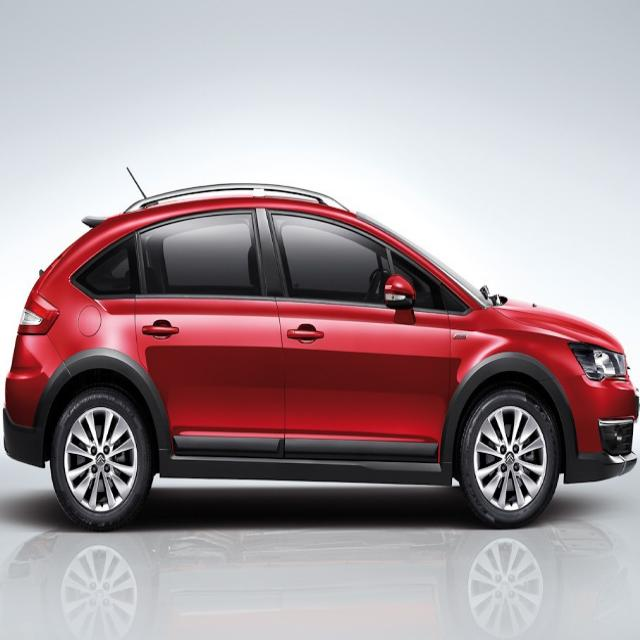back_right_side_light: (18, 290, 60, 336)
door: (138, 204, 269, 472)
front_right_side_door: (265, 205, 455, 474)
front_right_side_light: (567, 339, 628, 384)
front_right_side_mirror: (383, 274, 415, 316)
wheel: (50, 384, 154, 532), (459, 384, 560, 530)
